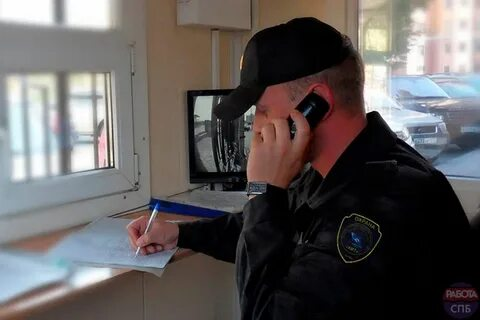awake: (211, 16, 479, 319)
